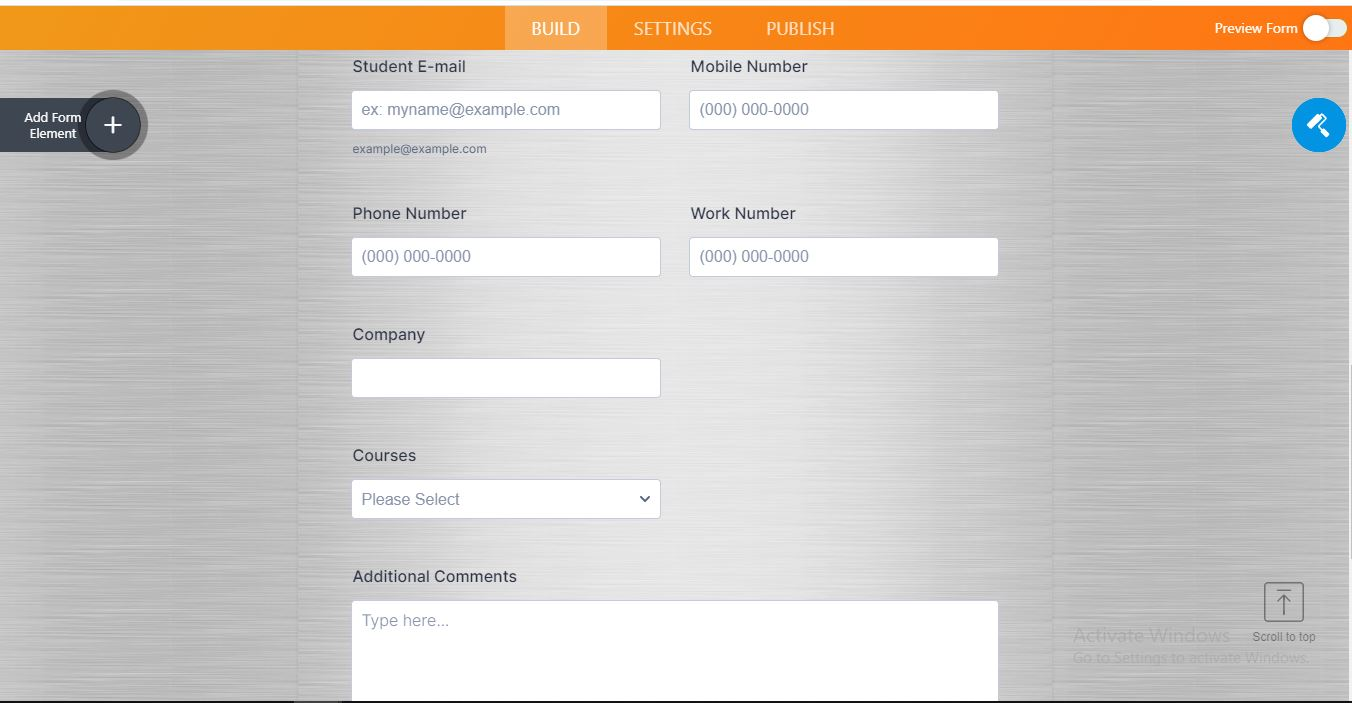Button: (81, 89, 142, 161), (1284, 93, 1347, 152)
Menu Bar: (503, 7, 842, 43)
Text Field: (353, 600, 995, 703), (350, 236, 664, 281), (352, 86, 660, 131), (687, 88, 998, 132), (354, 357, 660, 399), (687, 236, 1004, 276), (351, 480, 662, 516)
